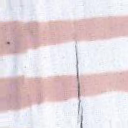crackTip: (73, 41, 88, 128)
